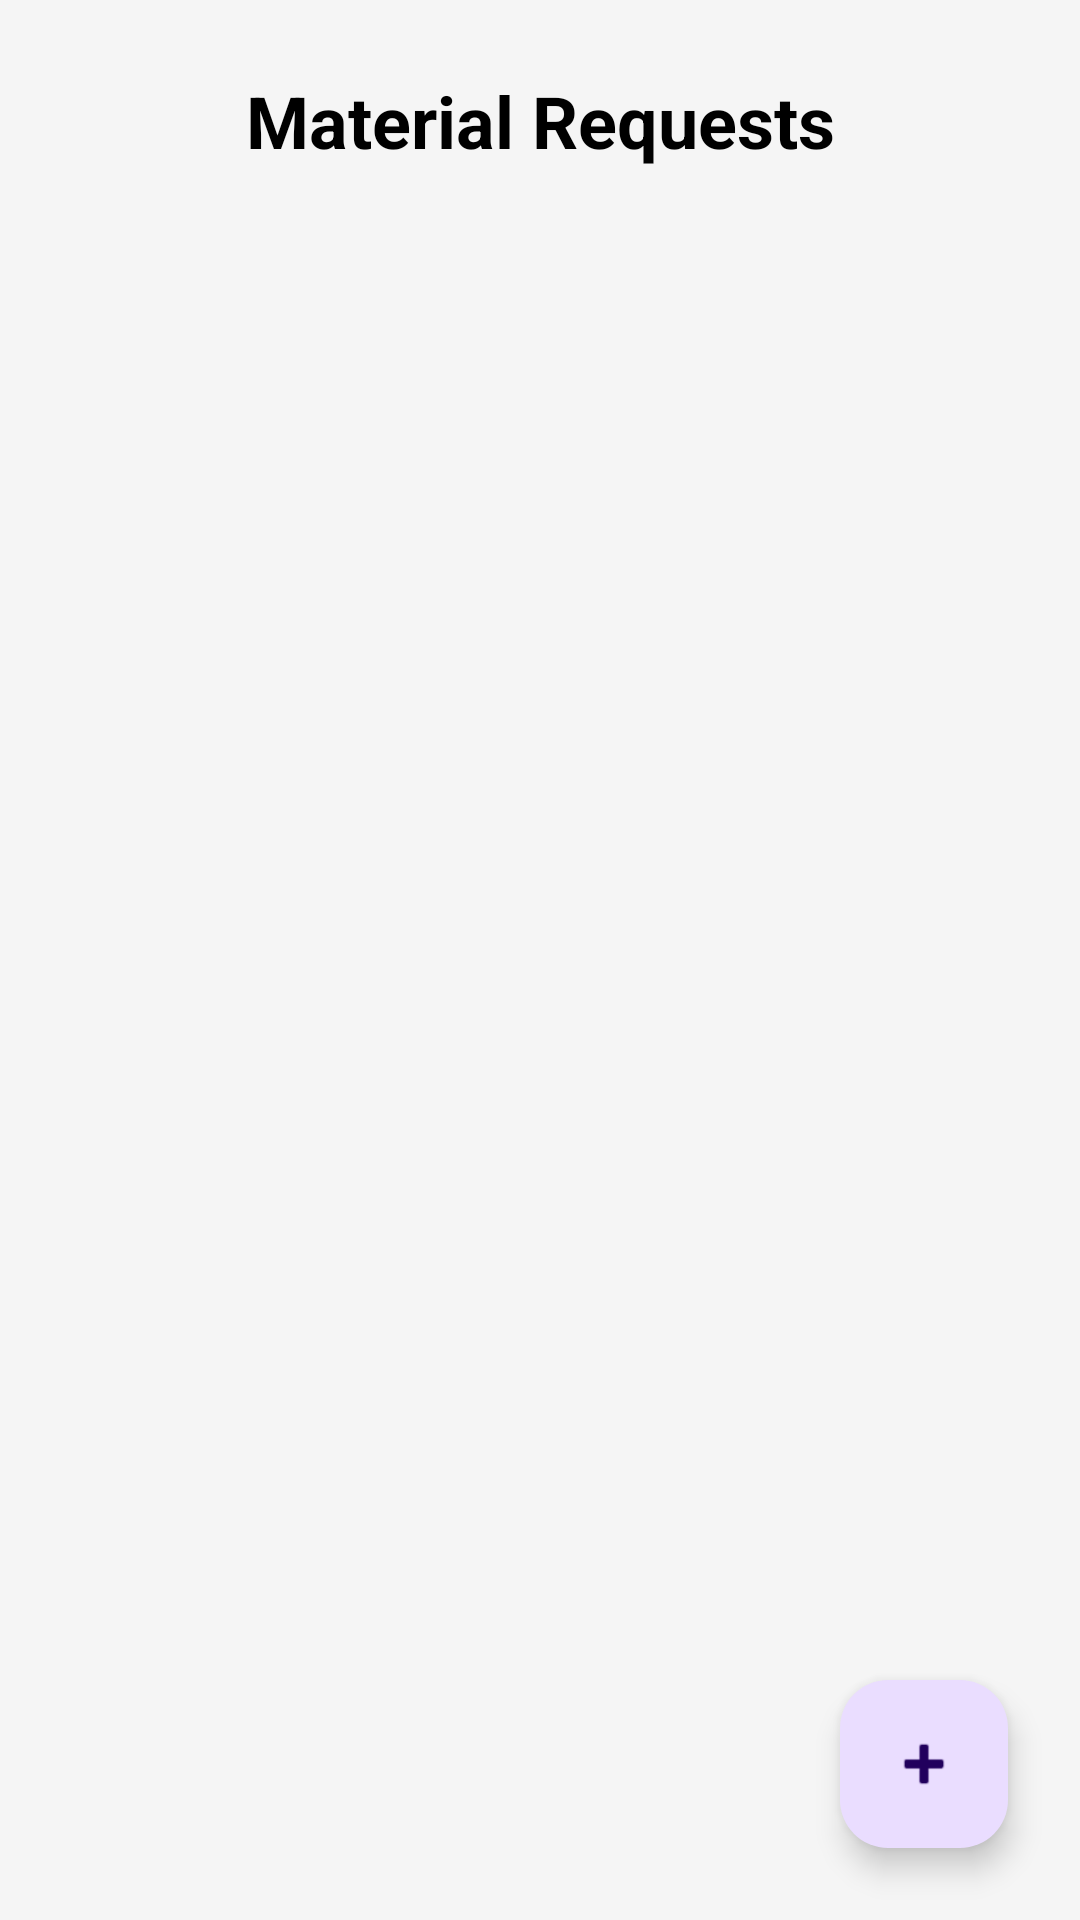

Where icons sit on this 1080px×1920px app screen, as (x1=x1, y1=y1, x2=x2, y2=y2):
Create Request: (x1=840, y1=1680, x2=1008, y2=1848)
